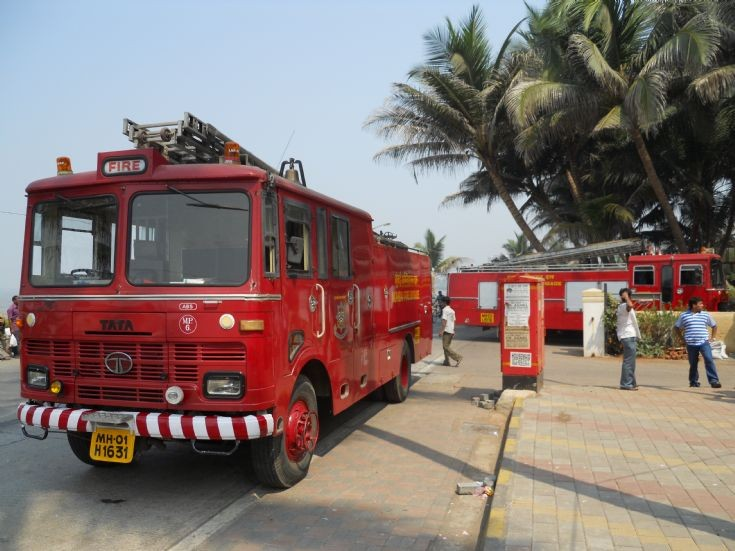fire engine: (17, 119, 434, 486)
numberplate: (83, 425, 144, 473)
